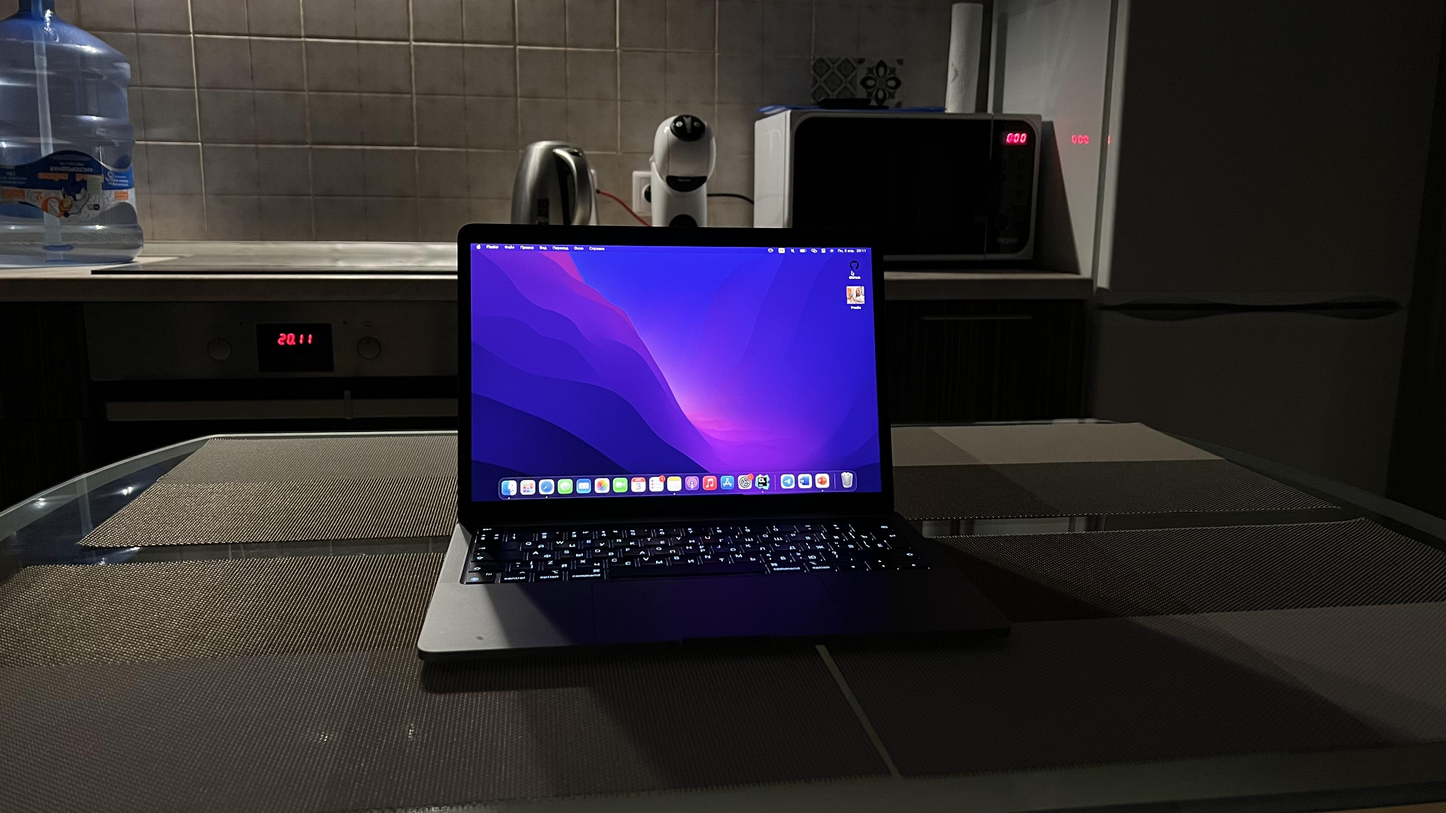monitor: (445, 215, 900, 539)
